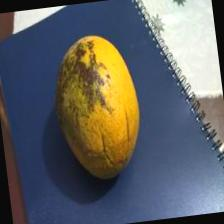Orange Rotten: (36, 18, 160, 198)
